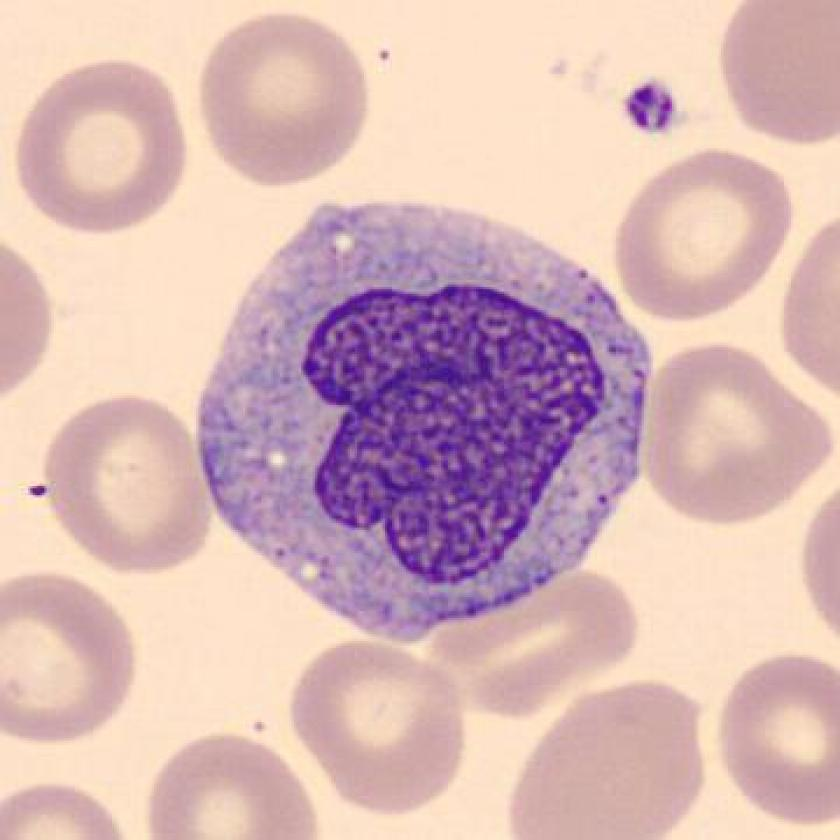monocyte: (174, 177, 668, 656)
